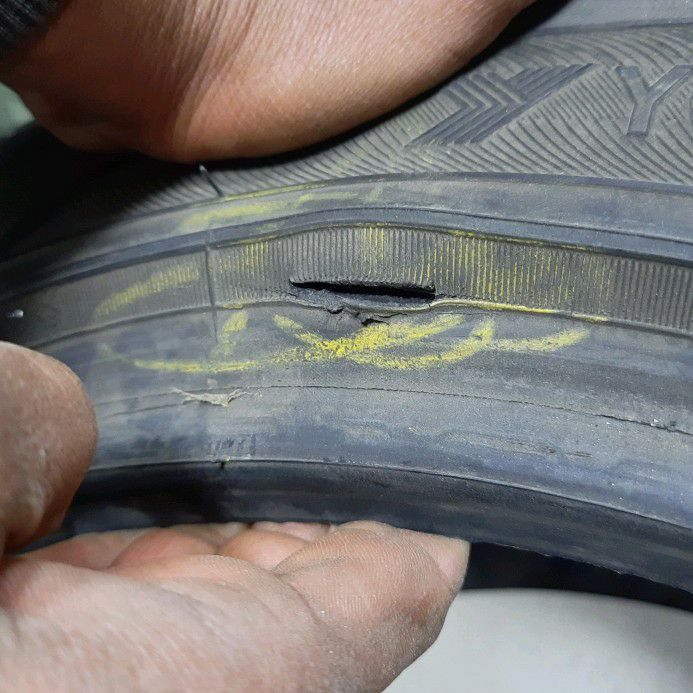cut: (289, 277, 437, 303)
